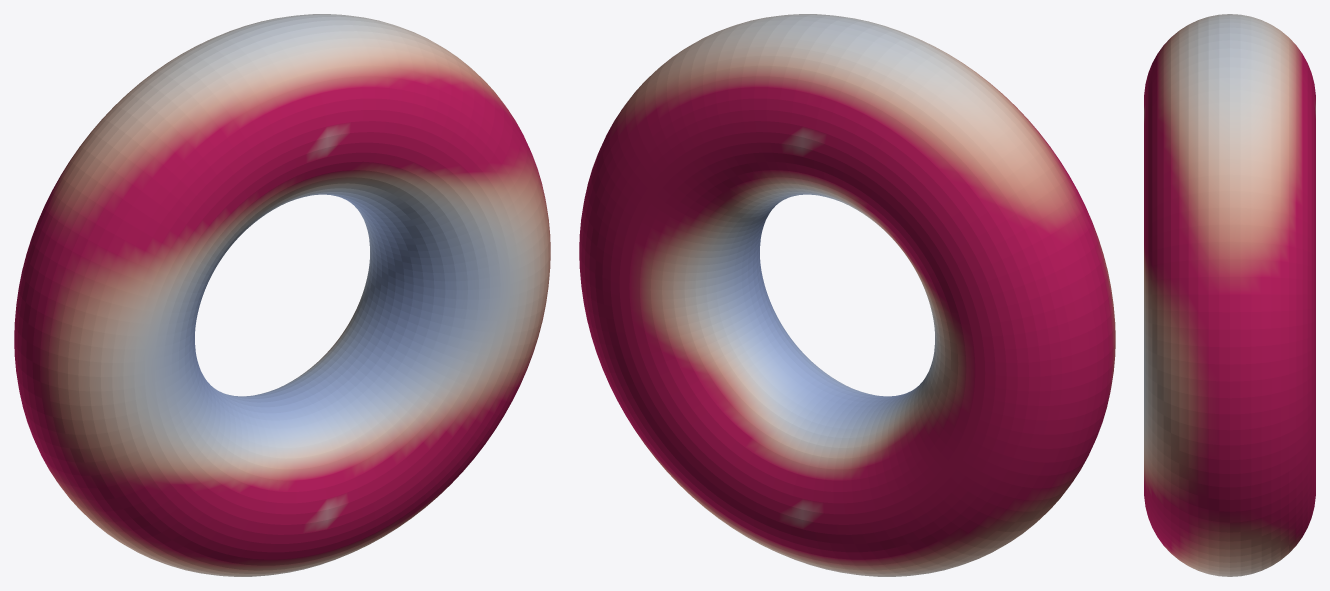
The picture shows the model from 3 angles, left to right: view 1: azimuth 30°, elevation 25°; view 2: azimuth 150°, elevation 25°; view 3: azimuth 270°, elevation 25°; orthographic projection. The views are drawn at different scales.
Visible parts, largest first — view 1: world; view 2: world; view 3: world.
Boxes of the visible parts, x1,y1,x2,y2 form: world: [14, 14, 550, 576]; world: [579, 14, 1115, 576]; world: [1144, 14, 1315, 576].
Bounding box in the file's own units: 24 × 24 × 7.32.
